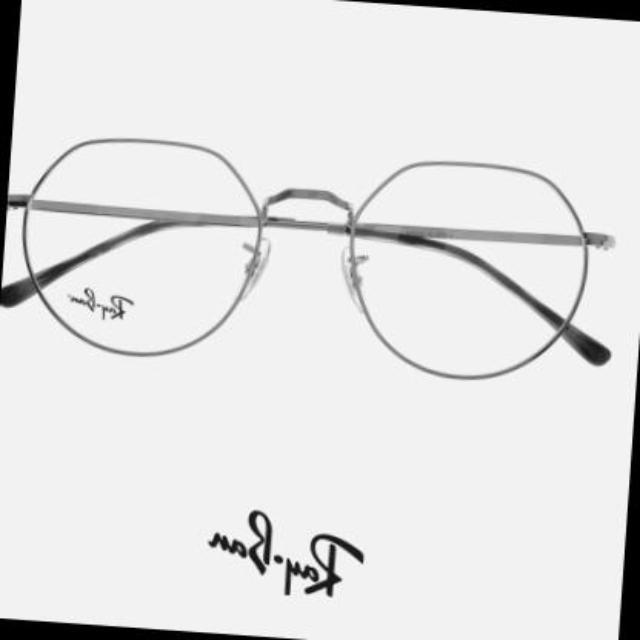glasses: (14, 137, 629, 380)
